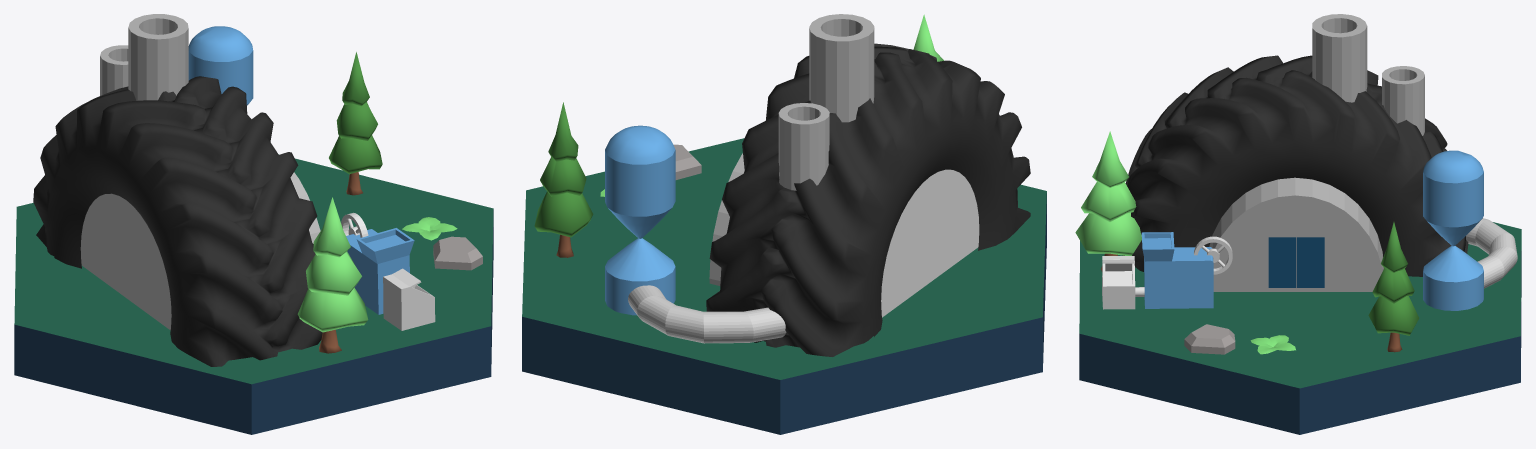
File: Macro - transportation factory lv1 wm 3.fbx
The picture shows the model from 3 angles, left to right: view 1: azimuth 30°, elevation 25°; view 2: azimuth 150°, elevation 25°; view 3: azimuth 270°, elevation 25°; orthographic projection. The views are drawn at different scales.
Visible parts, largest first — view 1: Cylinder.154, Cylinder.016, Cylinder.015, Tree_Spruce_tiny_01.001, Cylinder.009, Tree_Spruce_tiny_01.002, Cylinder.018, Cube.012, Cube.011, Rock Type4 04 mesh.001, Cylinder.004, Plane.003; view 2: Cylinder.154, Cylinder.016, Cylinder.018, Cylinder.015, Cylinder.009, Cube.002, Tree_Spruce_tiny_01.002, Cylinder.004, Cylinder.003, Rock Type4 04 mesh.001, Tree_Spruce_tiny_01.001; view 3: Cylinder.154, Cylinder.016, Cylinder.003, Cylinder.018, Cube.012, Tree_Spruce_tiny_01.001, Cylinder.009, Tree_Spruce_tiny_01.002, Cylinder.004, Cube.002, Cube.011, Plane.001 (+4 smaller).
Boxes of the visible parts, x1,y1,x2,y2 form: Cylinder.154: [14, 154, 493, 434]; Cylinder.016: [33, 76, 322, 366]; Cylinder.015: [80, 193, 171, 330]; Tree_Spruce_tiny_01.001: [297, 197, 368, 353]; Cylinder.009: [128, 14, 188, 100]; Tree_Spruce_tiny_01.002: [329, 52, 382, 195]; Cylinder.018: [188, 26, 253, 105]; Cube.012: [346, 228, 414, 314]; Cube.011: [383, 268, 435, 330]; Rock Type4 04 mesh.001: [433, 236, 482, 270]; Cylinder.004: [100, 45, 128, 95]; Plane.003: [402, 217, 457, 240]; Cylinder.154: [522, 138, 1046, 434]; Cylinder.016: [706, 43, 1030, 356]; Cylinder.018: [605, 125, 675, 315]; Cylinder.015: [881, 169, 979, 317]; Cylinder.009: [809, 14, 874, 122]; Cube.002: [628, 285, 786, 343]; Tree_Spruce_tiny_01.002: [534, 102, 593, 257]; Cylinder.004: [778, 103, 829, 190]; Cylinder.003: [709, 153, 744, 285]; Rock Type4 04 mesh.001: [673, 144, 701, 179]; Tree_Spruce_tiny_01.001: [913, 14, 944, 61]; Cylinder.154: [1079, 222, 1521, 434]; Cylinder.016: [1122, 55, 1468, 276]; Cylinder.003: [1209, 177, 1383, 291]; Cylinder.018: [1423, 150, 1483, 310]; Cube.012: [1141, 232, 1213, 308]; Tree_Spruce_tiny_01.001: [1075, 131, 1141, 271]; Cylinder.009: [1312, 14, 1367, 102]; Tree_Spruce_tiny_01.002: [1368, 222, 1419, 352]; Cylinder.004: [1382, 66, 1424, 135]; Cube.002: [1466, 218, 1517, 288]; Cube.011: [1102, 256, 1135, 309]; Plane.001: [1268, 237, 1296, 287].
Bounding box in the file's own units: 197 × 133 × 174.
